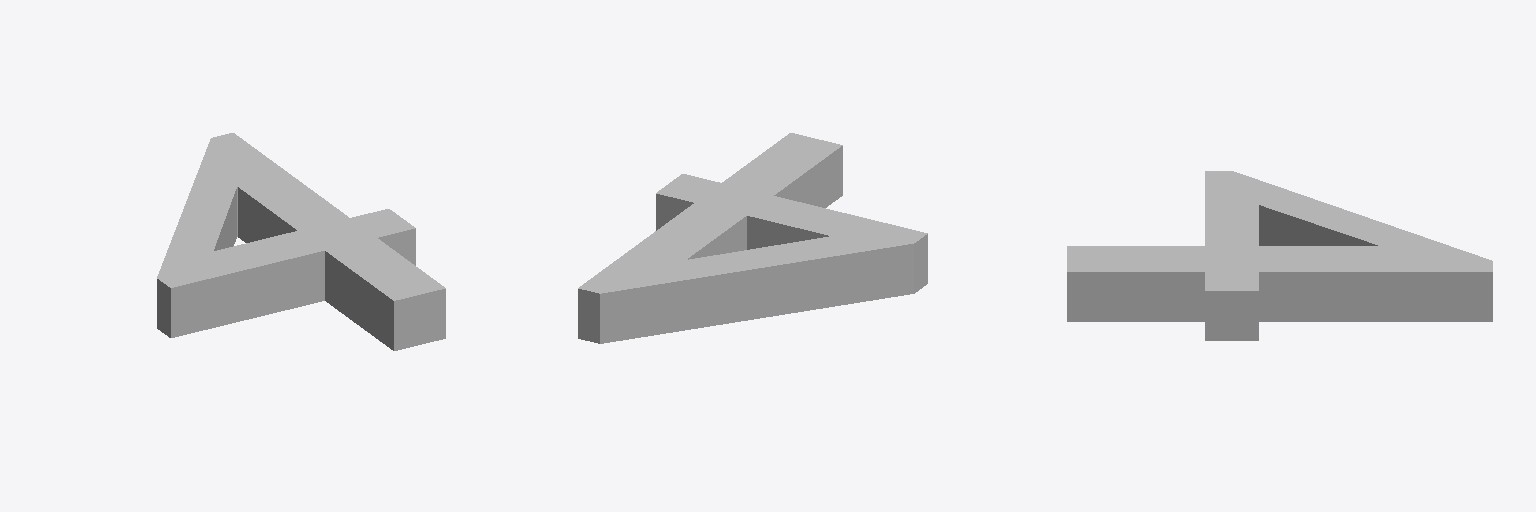
Rendered from four.obj.
The picture shows the model from 3 angles: view 1: azimuth 30°, elevation 25°; view 2: azimuth 150°, elevation 25°; view 3: azimuth 270°, elevation 25°; orthographic projection.
Parts seen in each view (by area): view 1: Text.003; view 2: Text.003; view 3: Text.003.
Part boxes in pixels (x1,y1,x2,y2): Text.003: (157, 133, 445, 350); Text.003: (578, 133, 927, 343); Text.003: (1067, 171, 1492, 340).
Bounding box in the file's own units: 0.46 × 0.09 × 0.691.